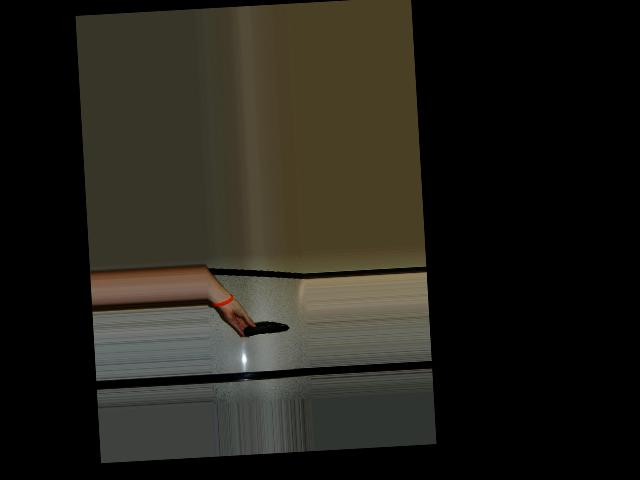cucumber: (242, 321, 289, 337)
